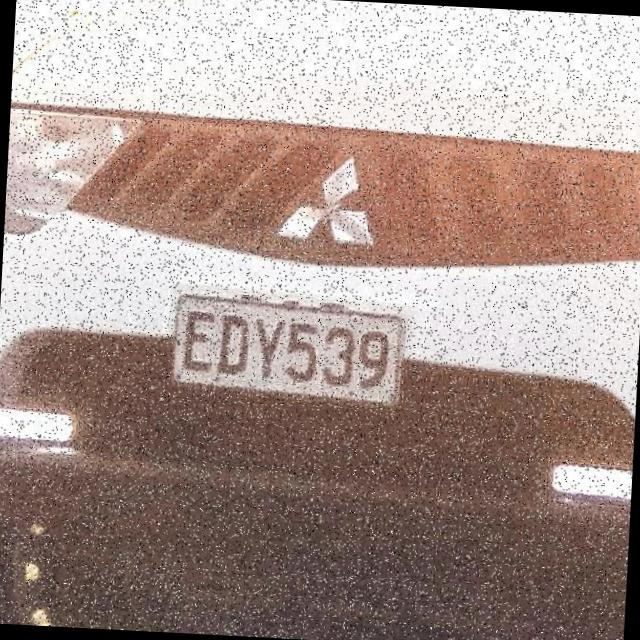LicensePlate: (160, 282, 427, 426)
